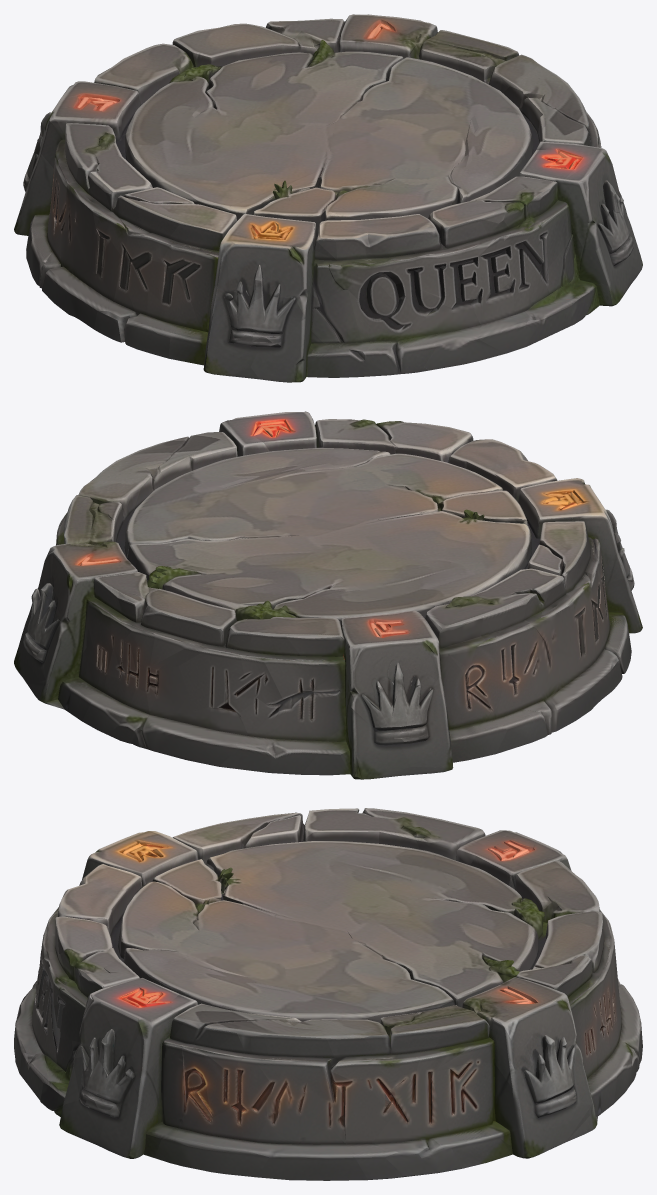
File: queen_3d_mesh.glb
3 views of the same model, one above another, from view 1: azimuth 30°, elevation 25°; view 2: azimuth 150°, elevation 25°; view 3: azimuth 270°, elevation 25° (orthographic). The views are drawn at different scales.
Visible parts, largest first — view 1: Mesh_0; view 2: Mesh_0; view 3: Mesh_0.
Part boxes in pixels (left/top/right/bottom): Mesh_0: left=14, top=14, right=642, bottom=382; Mesh_0: left=14, top=411, right=642, bottom=779; Mesh_0: left=14, top=808, right=642, bottom=1180.
Size of the model in its own units: 1.89 by 0.4387 by 1.9.
1 material, 1 textured.
